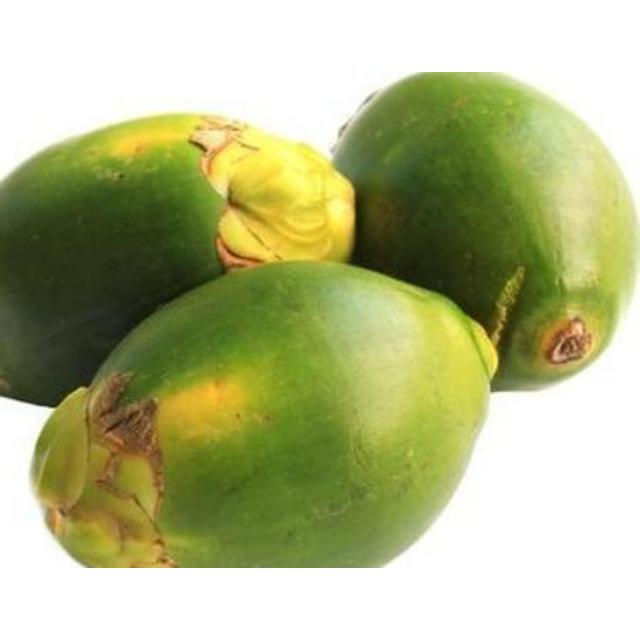good: (30, 263, 499, 567), (0, 113, 351, 408), (331, 72, 637, 393)
